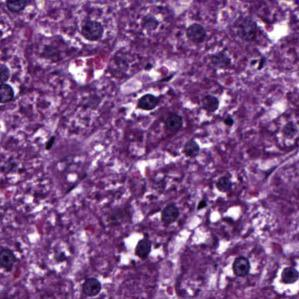inflammation: (157, 199, 181, 229), (230, 256, 255, 282), (180, 136, 201, 162), (132, 238, 155, 260), (81, 277, 104, 298), (201, 94, 223, 113), (138, 93, 158, 111)
